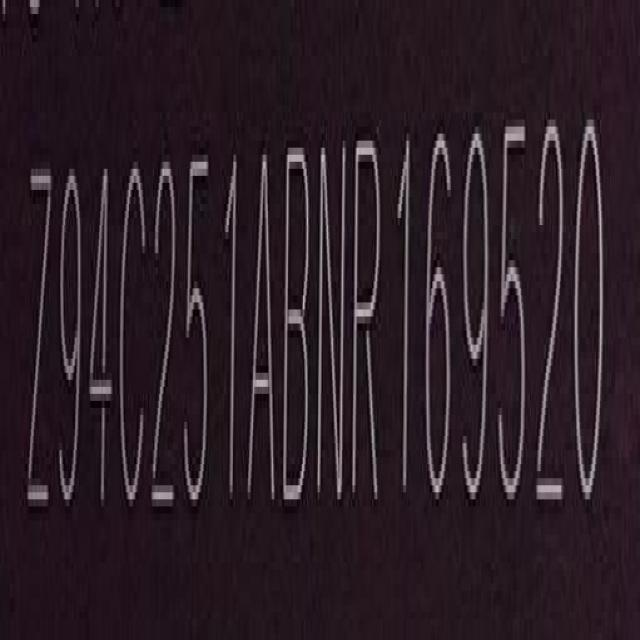0: (575, 121, 607, 509)
1: (219, 148, 241, 513), (398, 124, 416, 503)
2: (538, 121, 570, 512), (151, 156, 177, 524)
4: (90, 164, 116, 520)
5: (500, 116, 529, 514), (186, 148, 212, 520)
6: (426, 127, 455, 510)
9: (462, 124, 492, 510), (55, 162, 83, 522)
A: (248, 142, 277, 513)
B: (284, 134, 315, 512)
C: (117, 148, 149, 508)
N: (317, 135, 348, 512)
R: (352, 127, 384, 511)
Z: (22, 160, 52, 534)
